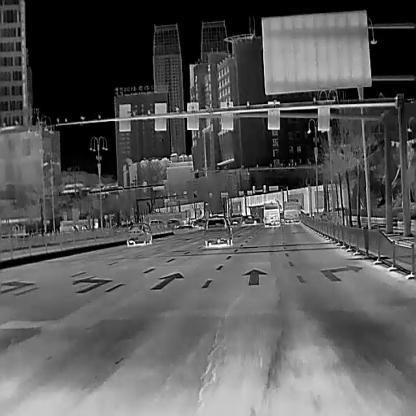car: (203, 217, 233, 246), (142, 210, 190, 224), (59, 216, 98, 232), (126, 222, 152, 245), (263, 200, 282, 226), (282, 198, 300, 223), (240, 214, 260, 224), (148, 218, 167, 228), (165, 218, 180, 228), (191, 217, 206, 227)
